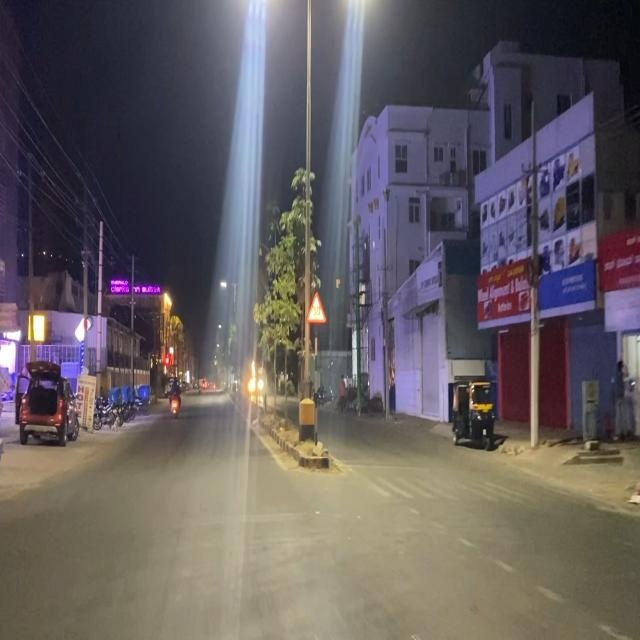bien_nguy_hiem: (306, 288, 326, 328)
